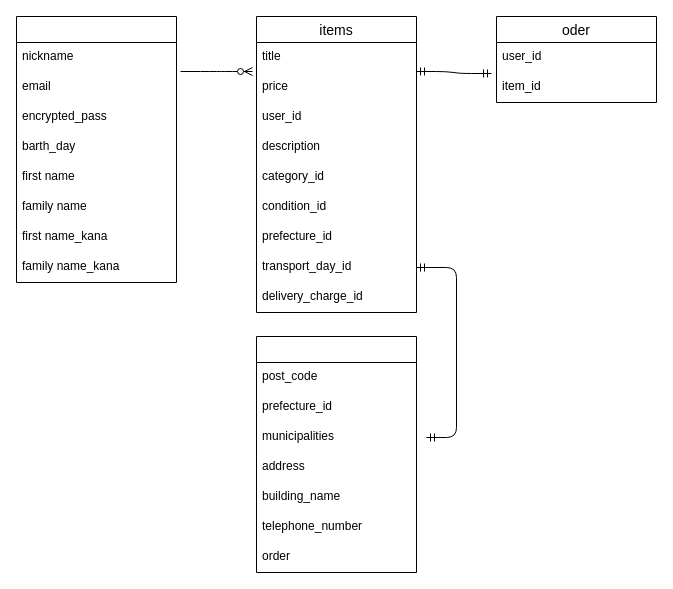
The diagram is 673 pixels wide and 589 high, and some of its shapes have lost their labels. Each missing label, with the box of its shape:
syopping address: (256, 336, 416, 572)
users: (16, 16, 176, 282)
